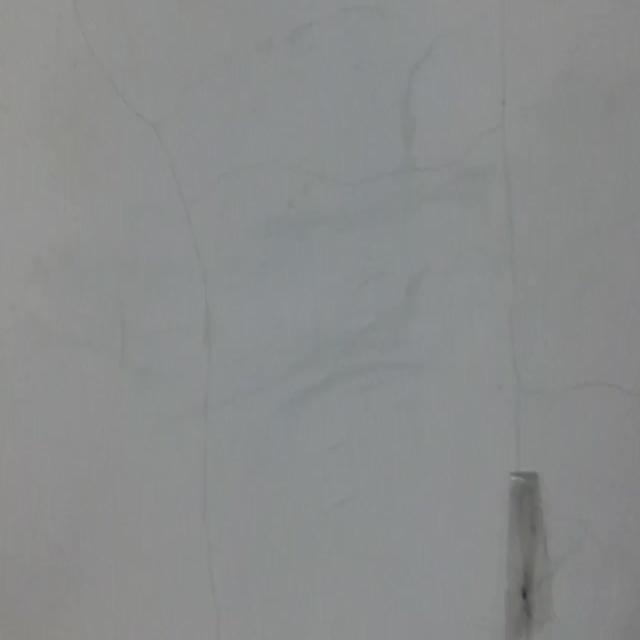Crack: (76, 0, 229, 640), (257, 128, 486, 214), (490, 348, 640, 459), (487, 0, 535, 339)
